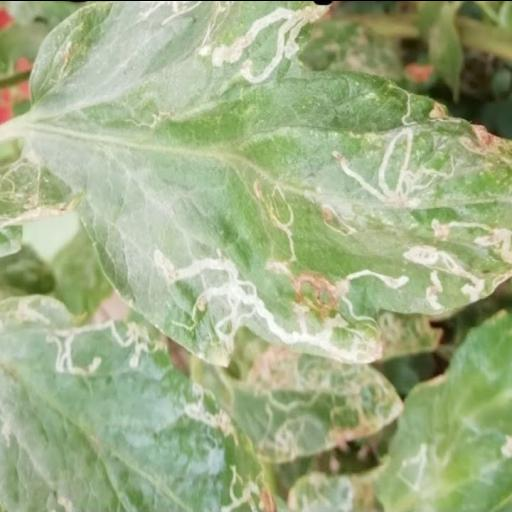disease_tomato: (27, 0, 512, 366)
